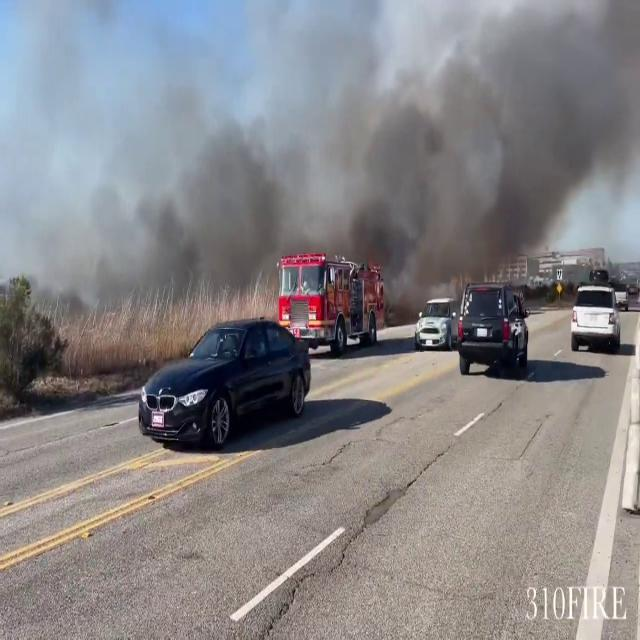Smoke: (15, 2, 640, 298), (331, 0, 640, 284)
